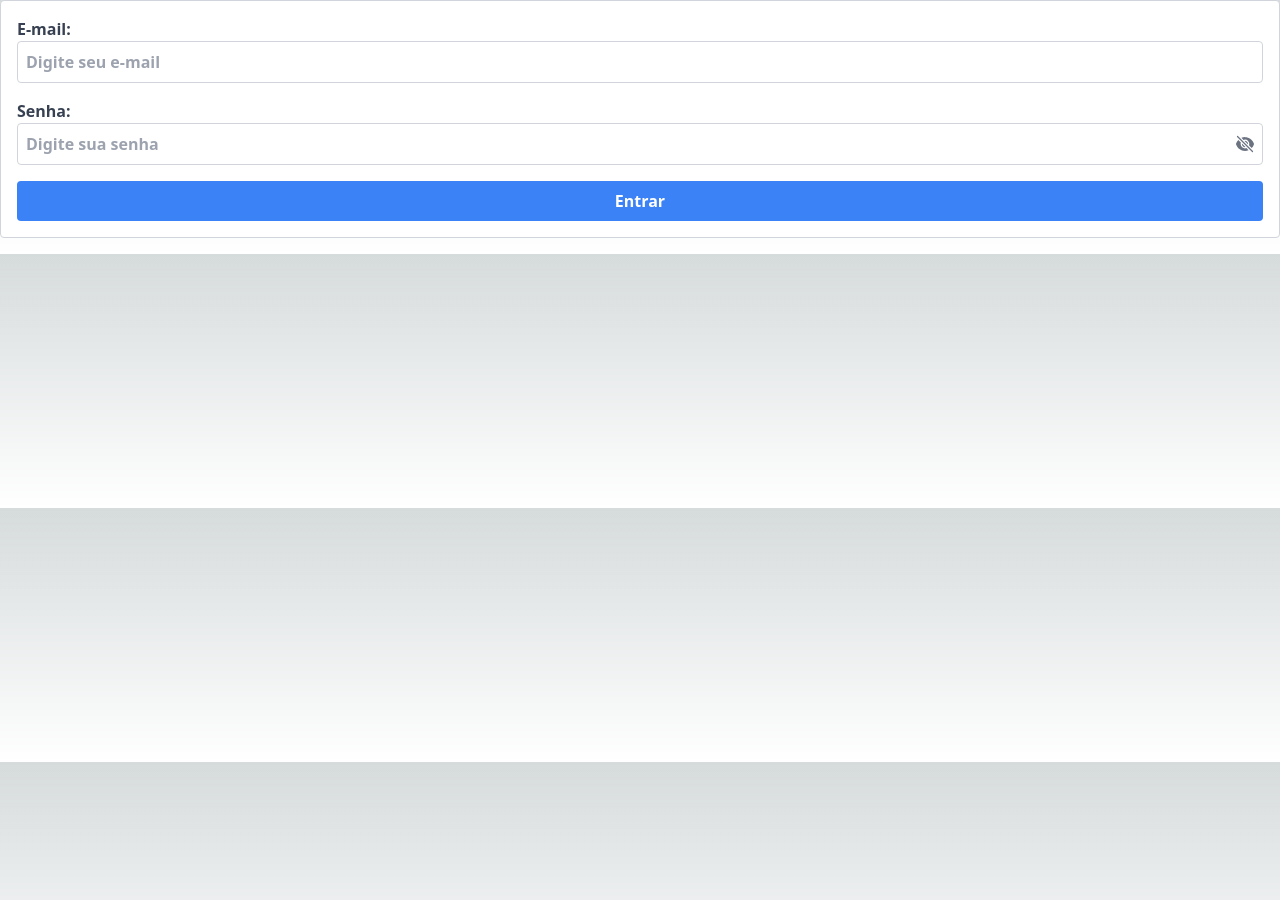
LoginForm Component › displays error messages for required fields
Click the button "Entrar".
click(640, 201)  # box [17,181,1263,221]
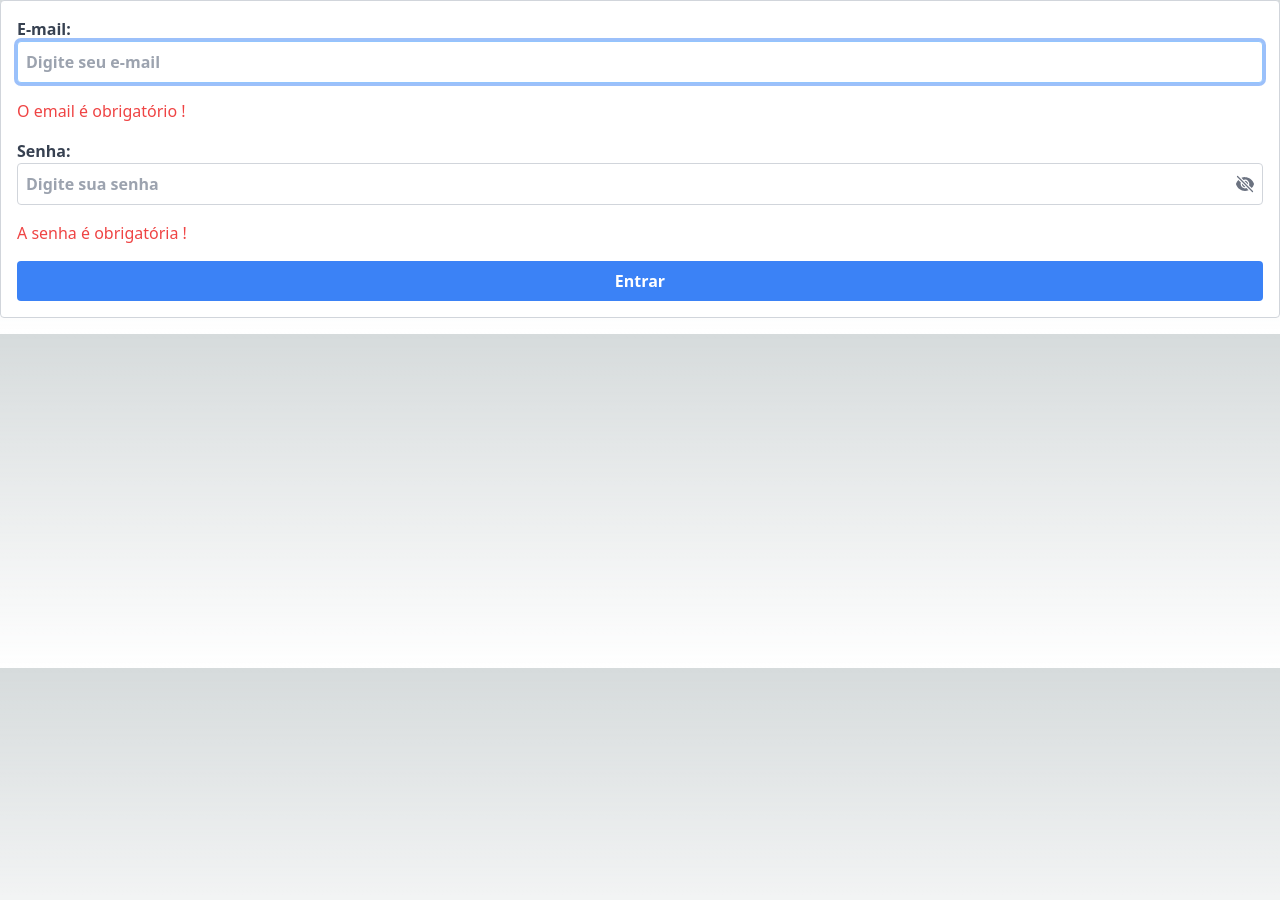
Result: the text "O email é obrigatório !" is shown at [17,100,186,122]
Result: the text "A senha é obrigatória !" is shown at [17,222,187,244]
